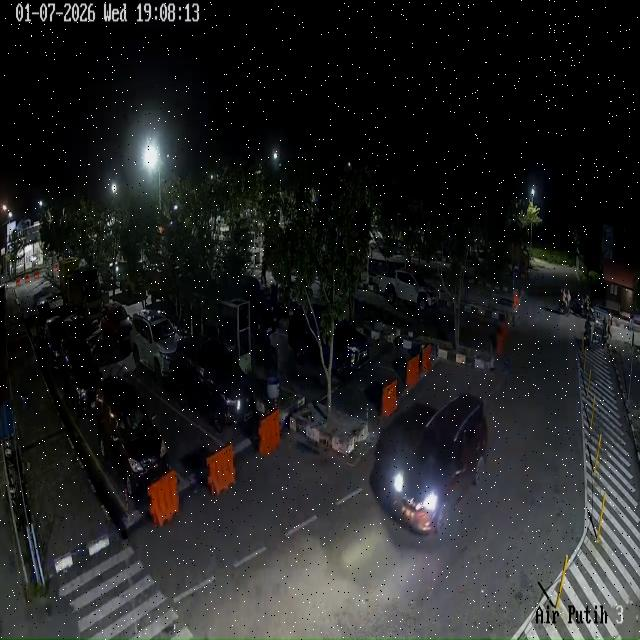Golongan IVA: (374, 394, 488, 533), (96, 376, 169, 495), (171, 336, 257, 432), (288, 305, 369, 375), (129, 309, 179, 381), (61, 336, 102, 416), (41, 316, 68, 371), (101, 301, 131, 343), (35, 298, 53, 338)
Golongan IVB: (378, 270, 439, 312)
Golongan VB: (59, 266, 108, 320)
